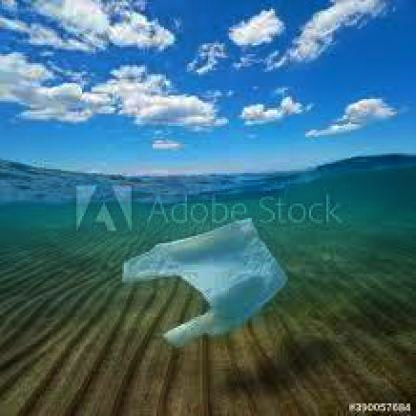pbag: (120, 218, 288, 349)
